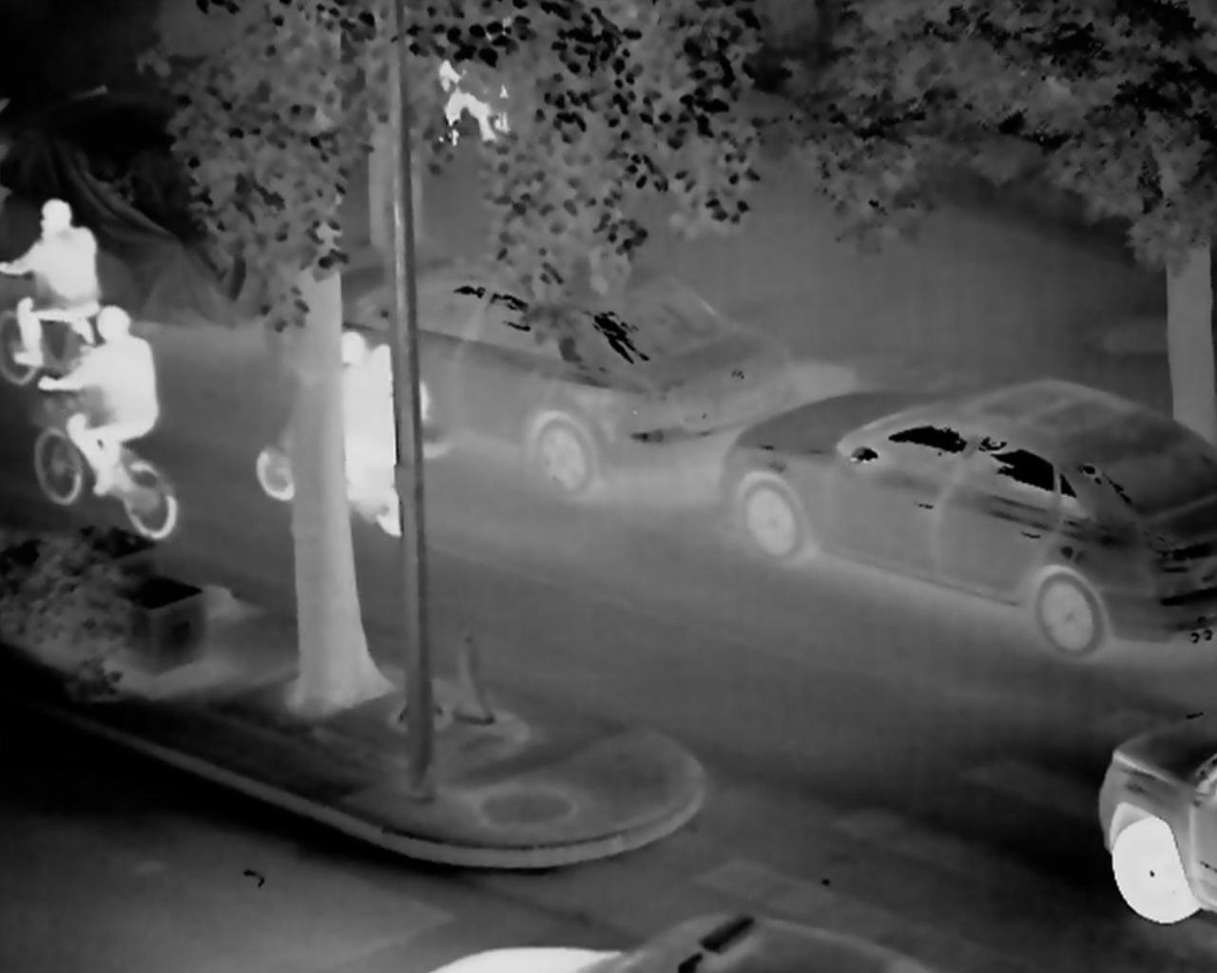person: (54, 308, 164, 504), (442, 48, 519, 146), (339, 330, 370, 488), (370, 339, 399, 502)
